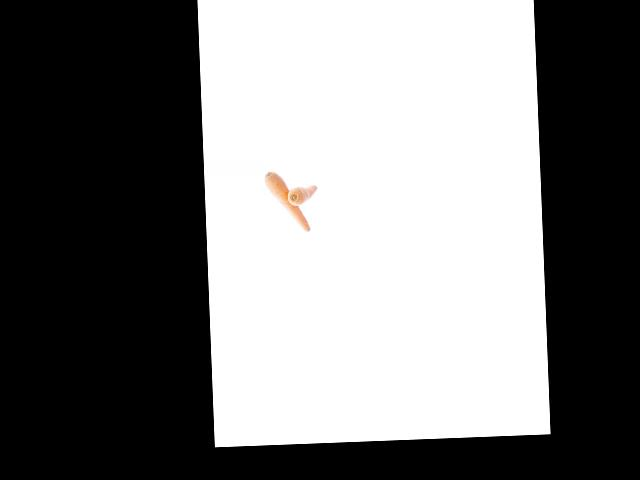carrot: (284, 181, 319, 206)
